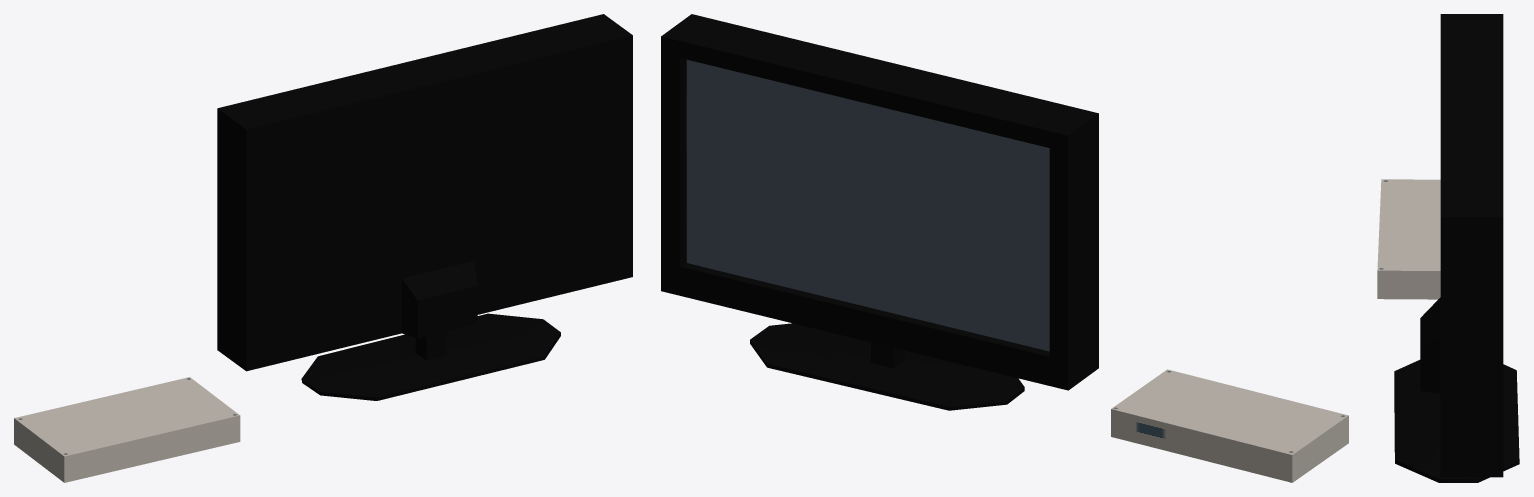
Rendered from cablebox.fbx.
The picture shows the model from 3 angles, left to right: view 1: azimuth 30°, elevation 25°; view 2: azimuth 150°, elevation 25°; view 3: azimuth 270°, elevation 25°; orthographic projection. The views are drawn at different scales.
Parts seen in each view (by area): view 1: pCube1, pCube2; view 2: pCube1, pCube2; view 3: pCube1, pCube2.
Part boxes in pixels (x1,y1,x2,y2): pCube1: [217, 14, 632, 400]; pCube2: [14, 377, 240, 482]; pCube1: [661, 14, 1098, 410]; pCube2: [1111, 369, 1348, 482]; pCube1: [1394, 14, 1519, 482]; pCube2: [1377, 179, 1440, 299].
Bounding box in the file's own units: 5.99 × 1.15 × 2.71.
Materials: 2 (2 with a texture image).
